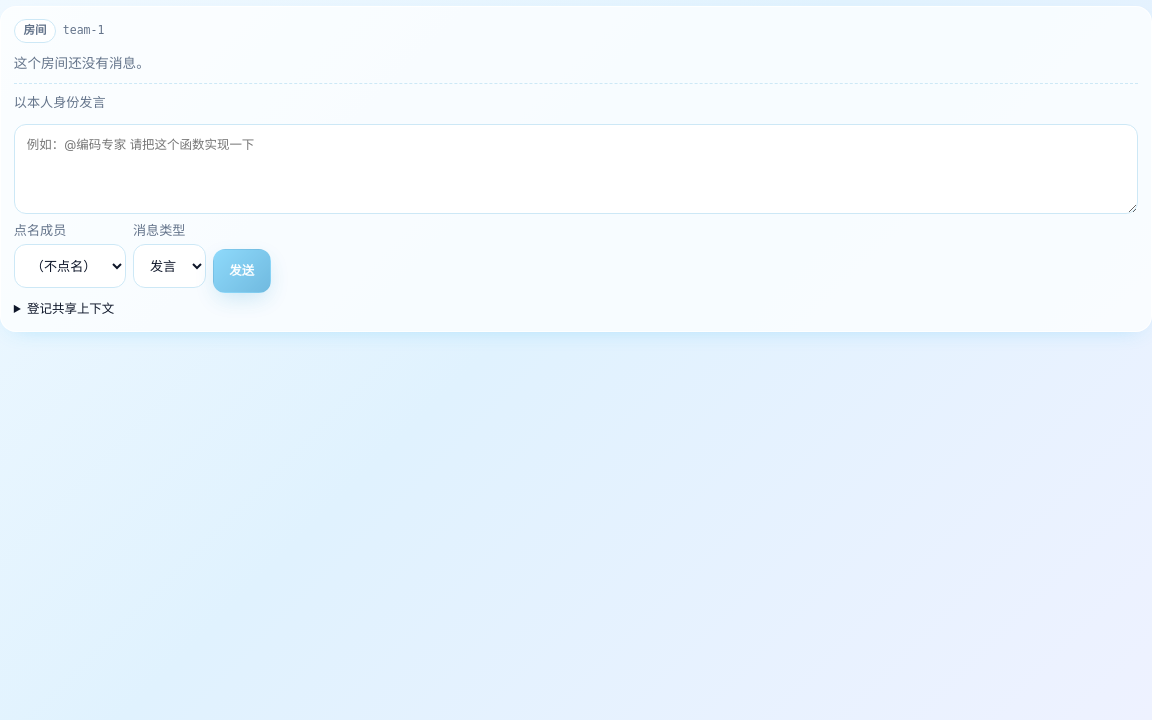
Test: BusPanel › 以本人身份发言并点名成员：返回消息入列，提示已点名
Type "@编码专家 请把这个函数实现一下" into the text box labelled "以本人身份发言".
click(576, 169); type("@编码专家 请把这个函数实现一下")  # box [14, 124, 1138, 214]
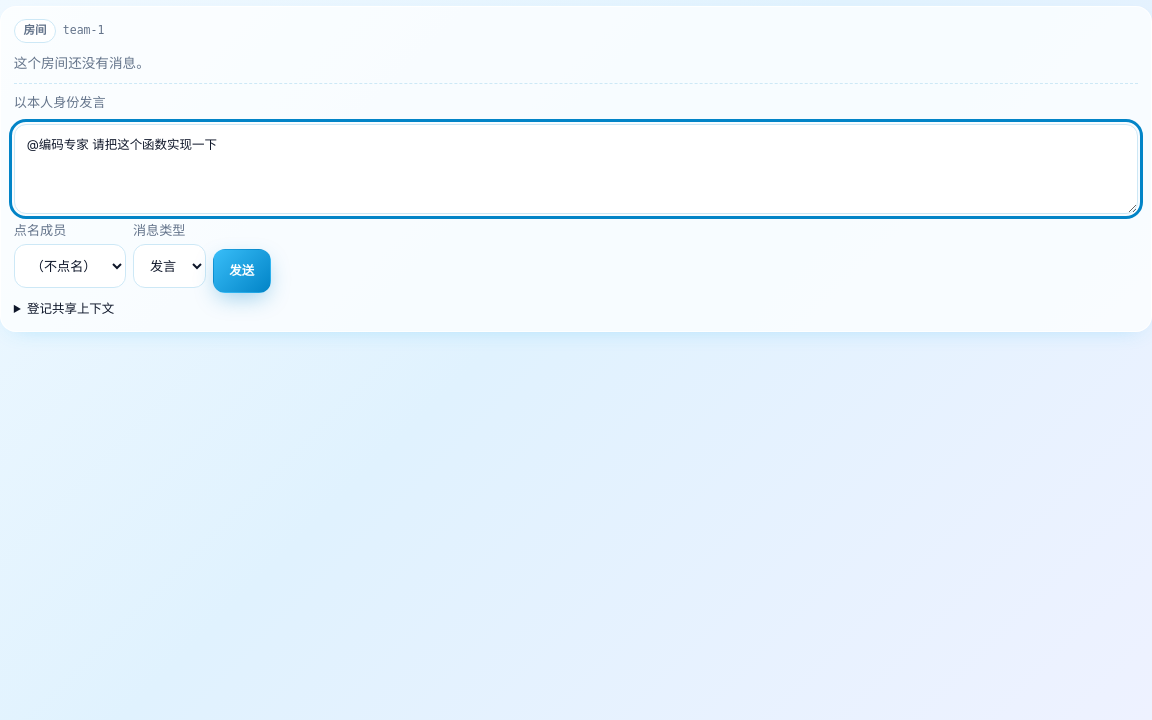
Select "编码专家" in the dropdown labelled "点名成员" at (70, 266), box [14, 244, 126, 288]
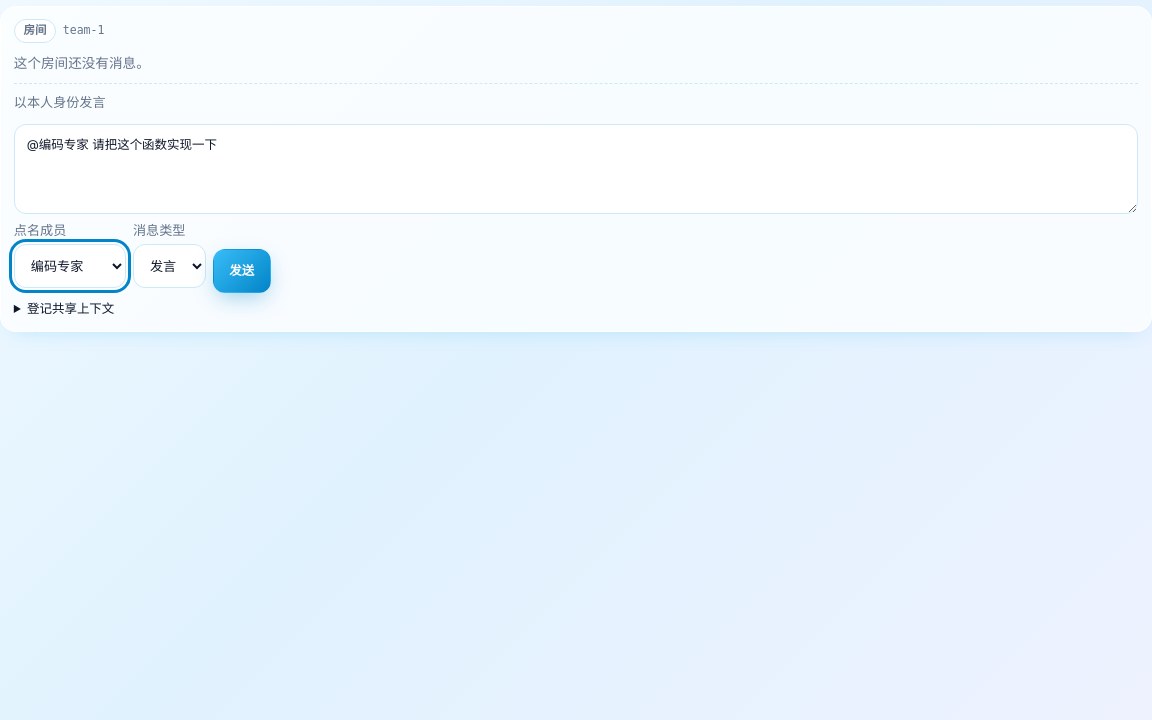
Click the button "发送".
click(242, 271)  # box [213, 249, 270, 293]
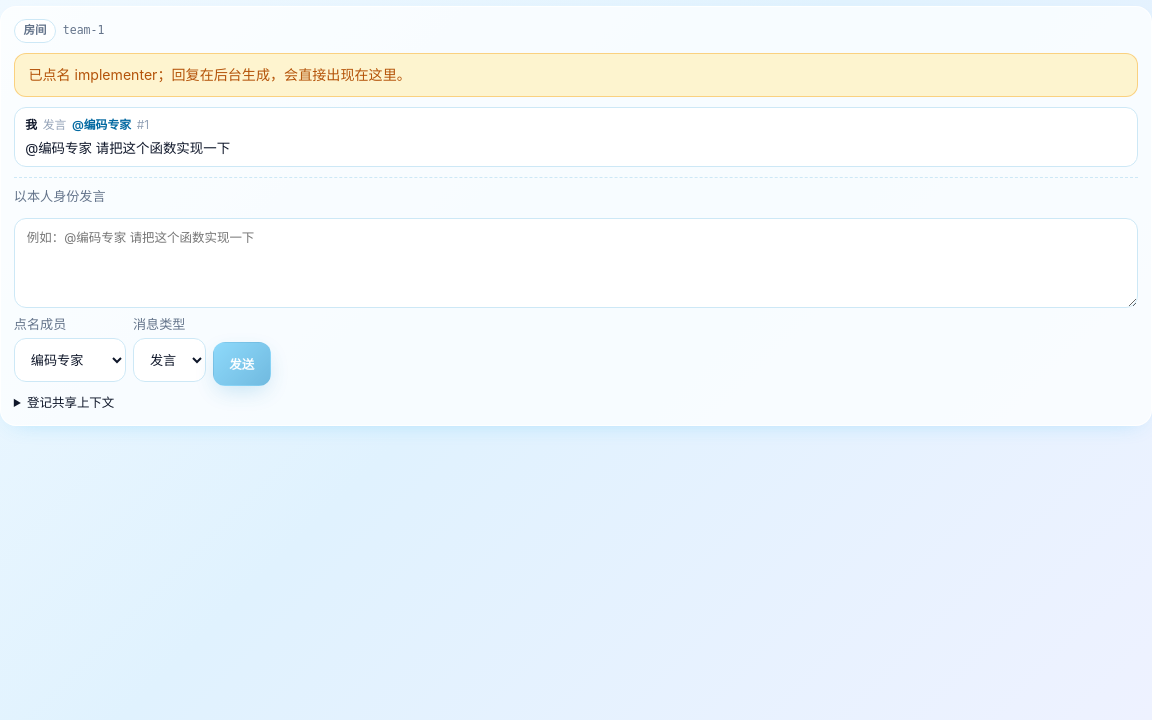
Check: the text "已点名 implementer；回复在后台生成，会直接出现在这里。" is shown, box [14, 53, 1138, 97]
Check: the text "@编码专家 请把这个函数实现一下" is shown, box [25, 140, 230, 156]
